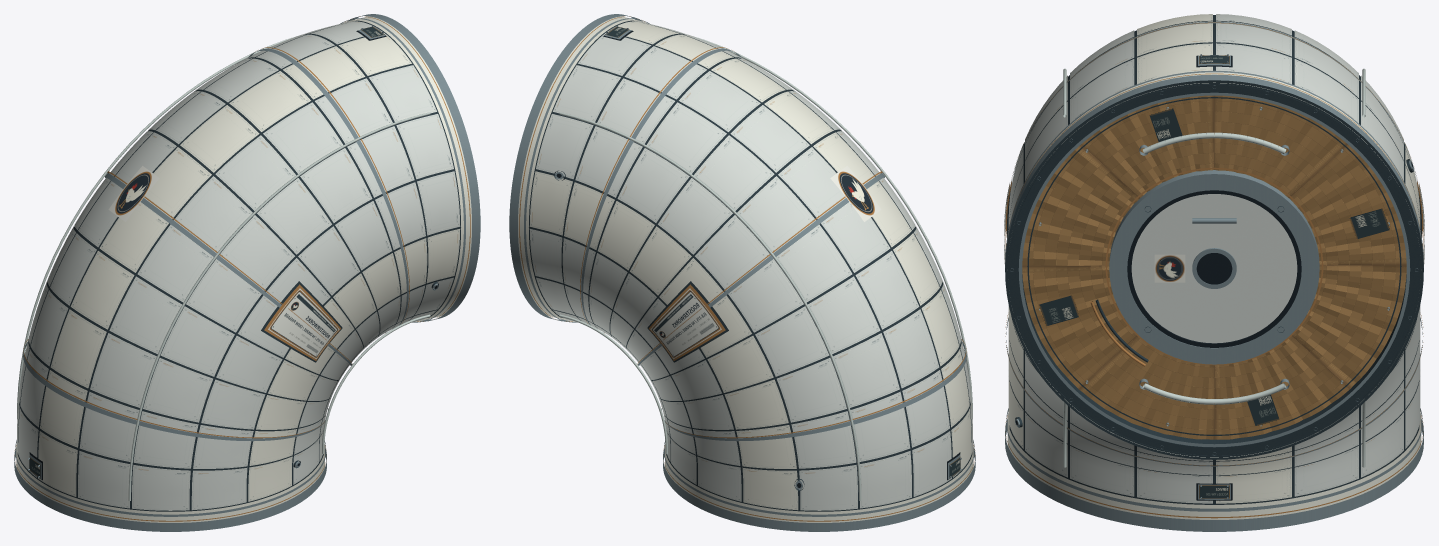
Rendered from RW_ELB_375.obj.
3 renders of one model, left to right at view 1: azimuth 30°, elevation 25°; view 2: azimuth 150°, elevation 25°; view 3: azimuth 270°, elevation 25°, orthographic. The views are drawn at different scales.
Visible parts, largest first — view 1: cladding, cladding_white, graphite, steel, white, rail, bronze, elblabel, crest; view 2: cladding, cladding_white, graphite, steel, white, rail, bronze, elblabel, crest; view 3: hubblanket, cladding, steel, graphite, ceramic, cladding_white, white, bronze, detail, black, rail, crest.
Boxes of the visible parts, x1=… form: cladding: x1=17, y1=21, x2=460, y2=510; cladding_white: x1=38, y1=32, x2=460, y2=501; graphite: x1=17, y1=20, x2=460, y2=511; steel: x1=14, y1=14, x2=480, y2=531; white: x1=16, y1=16, x2=471, y2=522; rail: x1=17, y1=36, x2=430, y2=500; bronze: x1=14, y1=16, x2=470, y2=521; elblabel: x1=268, y1=288, x2=339, y2=358; crest: x1=108, y1=166, x2=159, y2=221; cladding: x1=529, y1=21, x2=972, y2=510; cladding_white: x1=529, y1=21, x2=971, y2=510; graphite: x1=529, y1=20, x2=972, y2=511; steel: x1=509, y1=14, x2=975, y2=531; white: x1=518, y1=16, x2=973, y2=522; rail: x1=559, y1=36, x2=972, y2=500; bronze: x1=519, y1=16, x2=975, y2=521; elblabel: x1=650, y1=288, x2=721, y2=358; crest: x1=830, y1=166, x2=881, y2=221; hubblanket: x1=1022, y1=95, x2=1406, y2=439; cladding: x1=1008, y1=14, x2=1420, y2=503; steel: x1=1005, y1=22, x2=1423, y2=531; graphite: x1=1005, y1=15, x2=1423, y2=504; ceramic: x1=1131, y1=194, x2=1297, y2=343; cladding_white: x1=1008, y1=14, x2=1420, y2=503; white: x1=1007, y1=70, x2=1421, y2=519; bronze: x1=1005, y1=22, x2=1423, y2=518; detail: x1=1038, y1=55, x2=1390, y2=498; black: x1=1015, y1=55, x2=1413, y2=500; rail: x1=1063, y1=68, x2=1365, y2=467; crest: x1=1154, y1=254, x2=1185, y2=282.
Size of the model in its own units: 5.01 by 5.01 by 3.69.
Materials: 13 (13 with a texture image).
